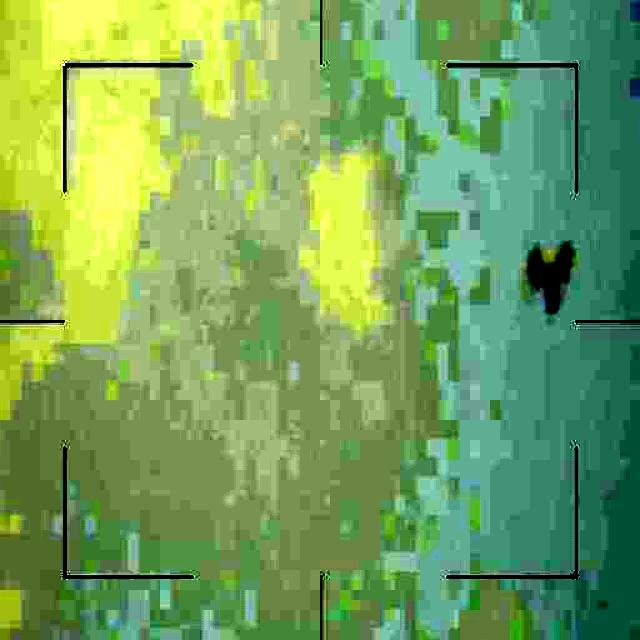bird: (525, 241, 576, 308)
